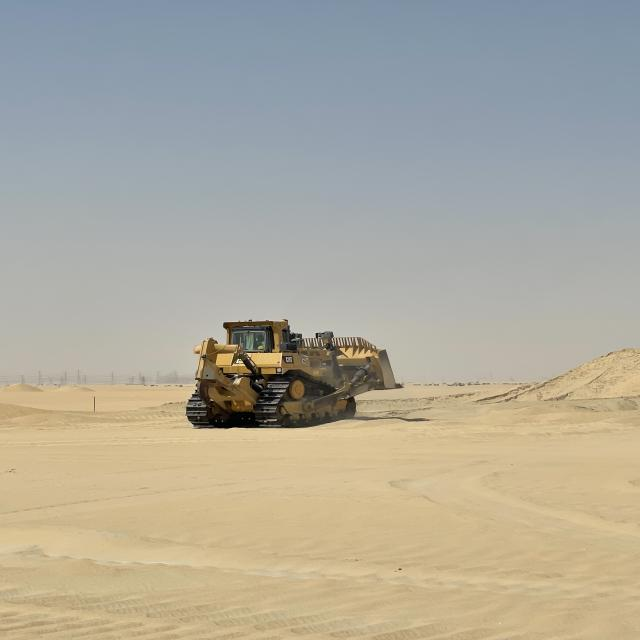buldozerpayloadergrader: (184, 311, 404, 432)
